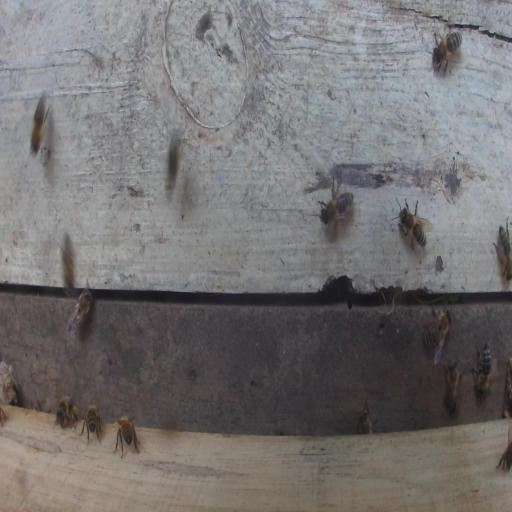bee: (425, 13, 468, 80), (392, 196, 431, 259), (319, 176, 354, 228), (422, 307, 452, 362), (30, 95, 51, 159), (493, 217, 512, 283), (111, 415, 139, 458), (67, 288, 93, 333), (443, 360, 465, 411), (472, 340, 492, 395), (80, 402, 102, 444), (56, 394, 79, 430), (60, 233, 74, 291), (497, 425, 511, 472), (356, 398, 373, 435), (502, 358, 512, 416)
